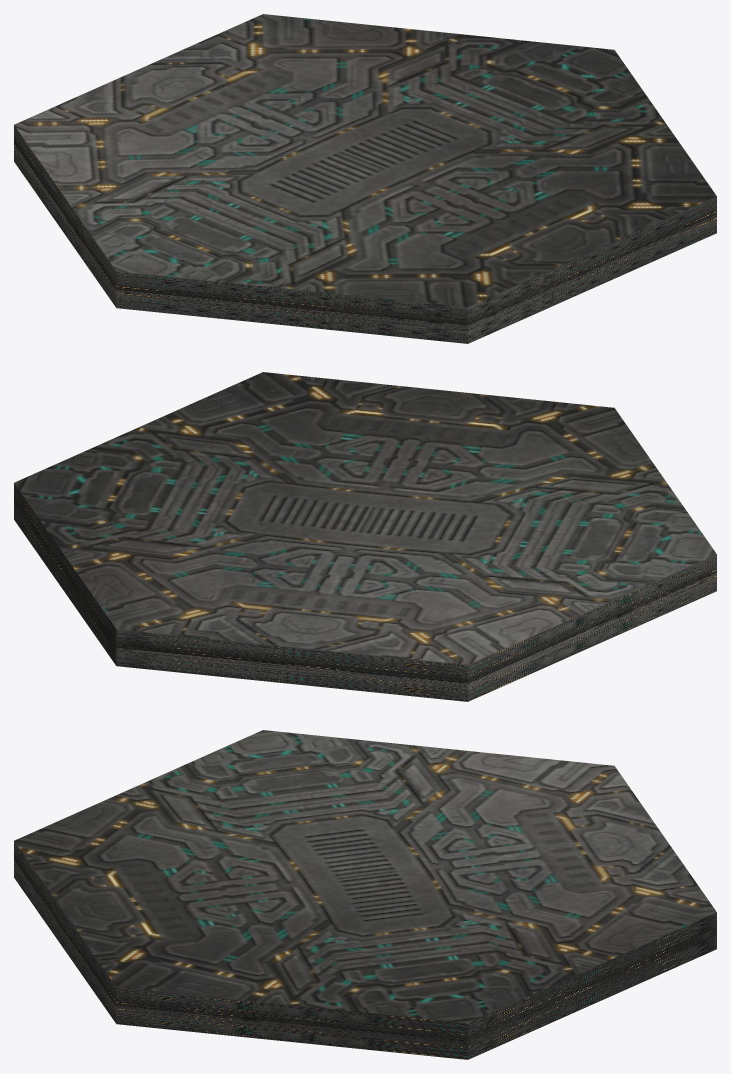
Rendered from sub floor.fbx.
3 views of the same model, one above another, from view 1: azimuth 30°, elevation 25°; view 2: azimuth 150°, elevation 25°; view 3: azimuth 270°, elevation 25° (orthographic).
Visible parts, largest first — view 1: pCylinder37; view 2: pCylinder37; view 3: pCylinder37.
Part boxes in pixels (x1,y1,x2,y2): pCylinder37: (14, 14, 716, 343); pCylinder37: (14, 372, 716, 701); pCylinder37: (14, 730, 716, 1059).
Bounding box in the file's own units: 18.62 × 1.09 × 18.88.
Materials: 1 (1 with a texture image).
